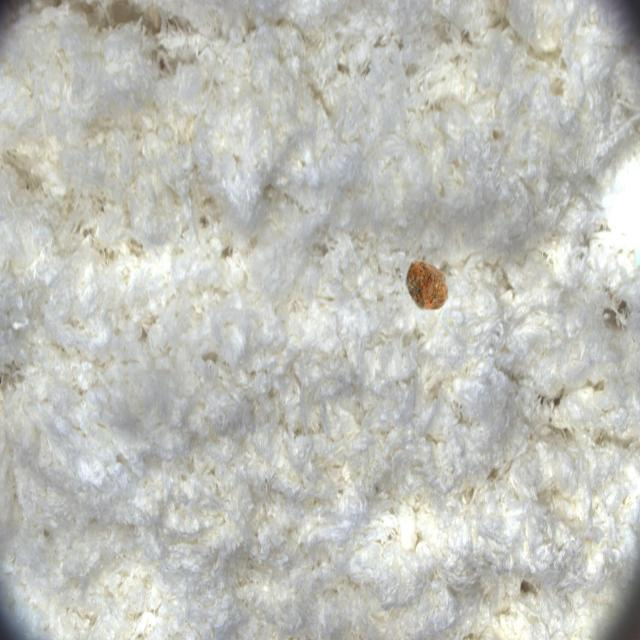dust: (388, 238, 473, 335)
